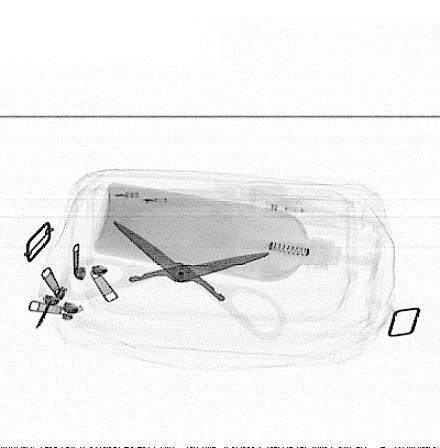Scissors: (61, 220, 286, 344)
